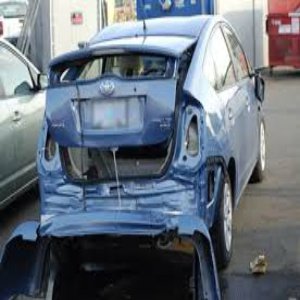bonnet: (44, 68, 175, 149)
bumper: (40, 183, 203, 254)
